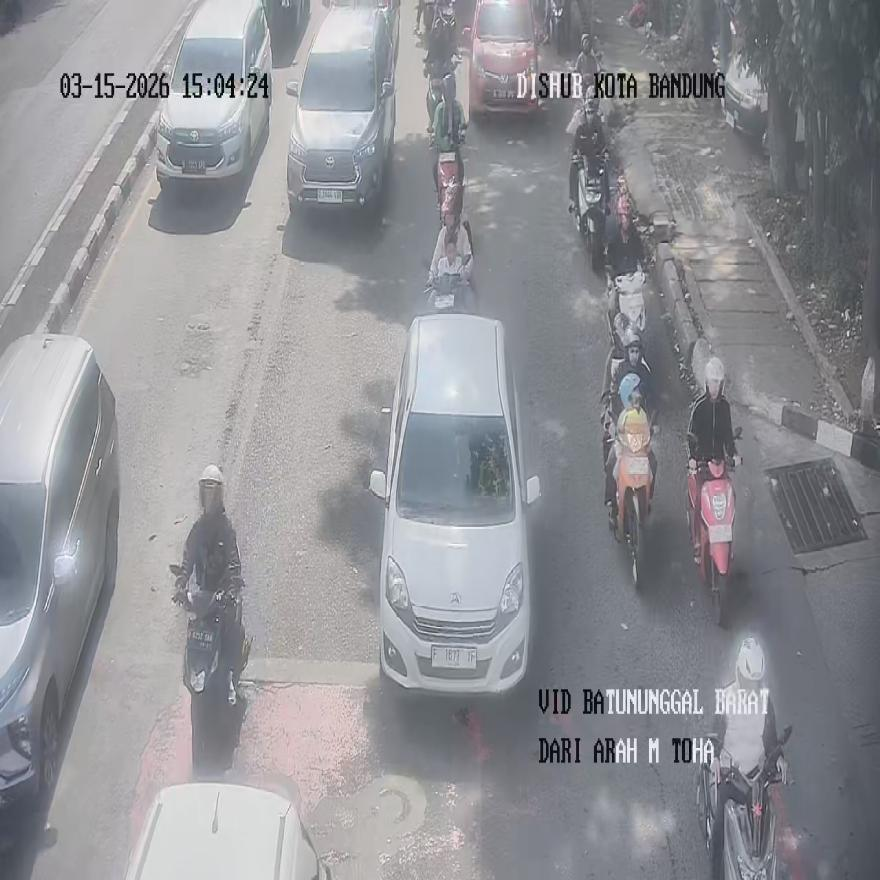Motor: (368, 312, 540, 693), (0, 332, 120, 810), (285, 5, 396, 214), (154, 0, 273, 189), (123, 771, 331, 878), (464, 0, 539, 117)
Truk: (170, 564, 250, 768), (696, 722, 786, 880), (687, 428, 742, 627), (607, 413, 657, 587), (428, 72, 465, 221), (569, 154, 609, 271), (426, 220, 474, 313), (607, 265, 646, 361), (573, 32, 603, 112)
